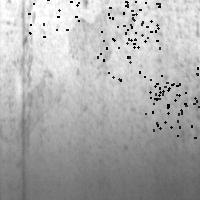pitted_surface: (52, 5, 200, 192), (10, 12, 38, 198), (97, 24, 157, 79), (149, 82, 200, 137), (106, 0, 164, 47), (144, 67, 200, 113), (23, 0, 78, 36)
